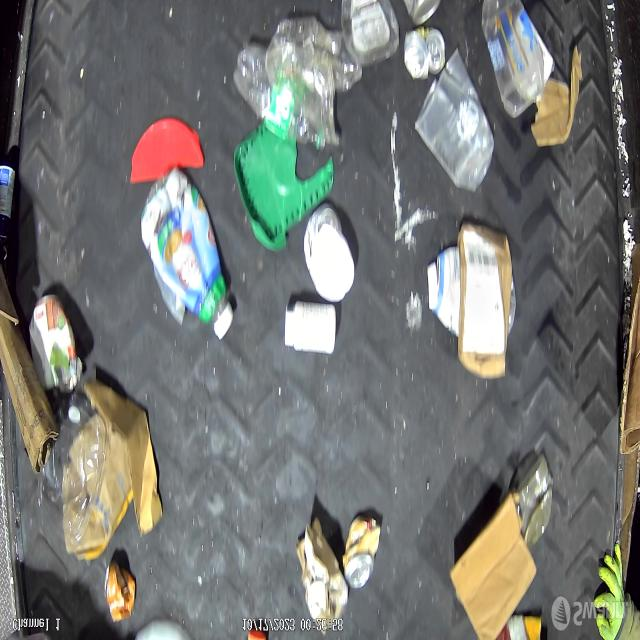can: (29, 293, 78, 392), (516, 453, 553, 548), (344, 513, 381, 590), (406, 26, 446, 81), (106, 560, 138, 628), (403, 0, 439, 25)
plastic_bottle: (232, 43, 326, 150)
